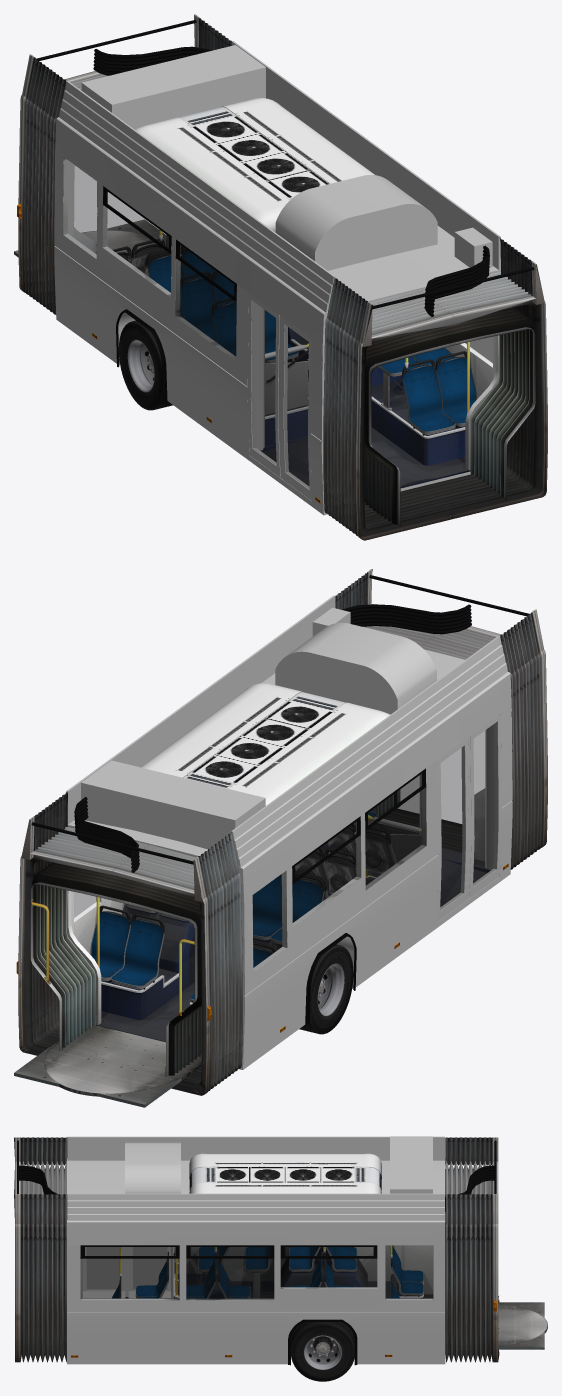
The model's file is hessbg.obj.
3 renders of one model, top to bottom at view 1: azimuth 30°, elevation 25°; view 2: azimuth 150°, elevation 25°; view 3: azimuth 270°, elevation 25°, orthographic. The views are drawn at different scales.
Parts seen in each view (by area): view 1: kuzov, garmoha, interior, intgarmoha, glass, doorglass6, doorglass5, wheels, door5, door6; view 2: kuzov, garmoha, interior, intgarmoha, glass, doorglass6, doorglass5, wheels, door5, door6; view 3: kuzov, garmoha, glass, interior, wheels, intgarmoha, doorglass5, doorglass6, door5, door6.
Part boxes in pixels (x1,y1,x2,y2): kuzov: (54, 41, 500, 515); garmoha: (18, 14, 547, 540); interior: (63, 157, 499, 500); intgarmoha: (14, 219, 535, 526); glass: (63, 157, 492, 362); doorglass6: (251, 301, 276, 465); doorglass5: (284, 325, 309, 489); wheels: (118, 320, 172, 410); door5: (278, 315, 312, 501); door6: (247, 293, 280, 477); kuzov: (66, 595, 512, 1069); garmoha: (18, 569, 547, 1095); interior: (67, 711, 512, 1041); intgarmoha: (14, 790, 399, 1107); glass: (74, 769, 426, 971); doorglass6: (440, 746, 465, 910); doorglass5: (473, 722, 497, 886); wheels: (299, 944, 353, 1034); door5: (467, 714, 501, 899); door6: (436, 738, 468, 922); kuzov: (67, 1136, 445, 1365); garmoha: (14, 1137, 499, 1362); glass: (80, 1245, 433, 1299); interior: (80, 1245, 433, 1300); wheels: (291, 1322, 354, 1381); intgarmoha: (21, 1238, 547, 1349); doorglass5: (87, 1247, 119, 1289); doorglass6: (133, 1247, 166, 1289); door5: (82, 1247, 125, 1298); door6: (125, 1247, 171, 1298).
Size of the model in its own units: 2.6 by 3.49 by 8.66.
